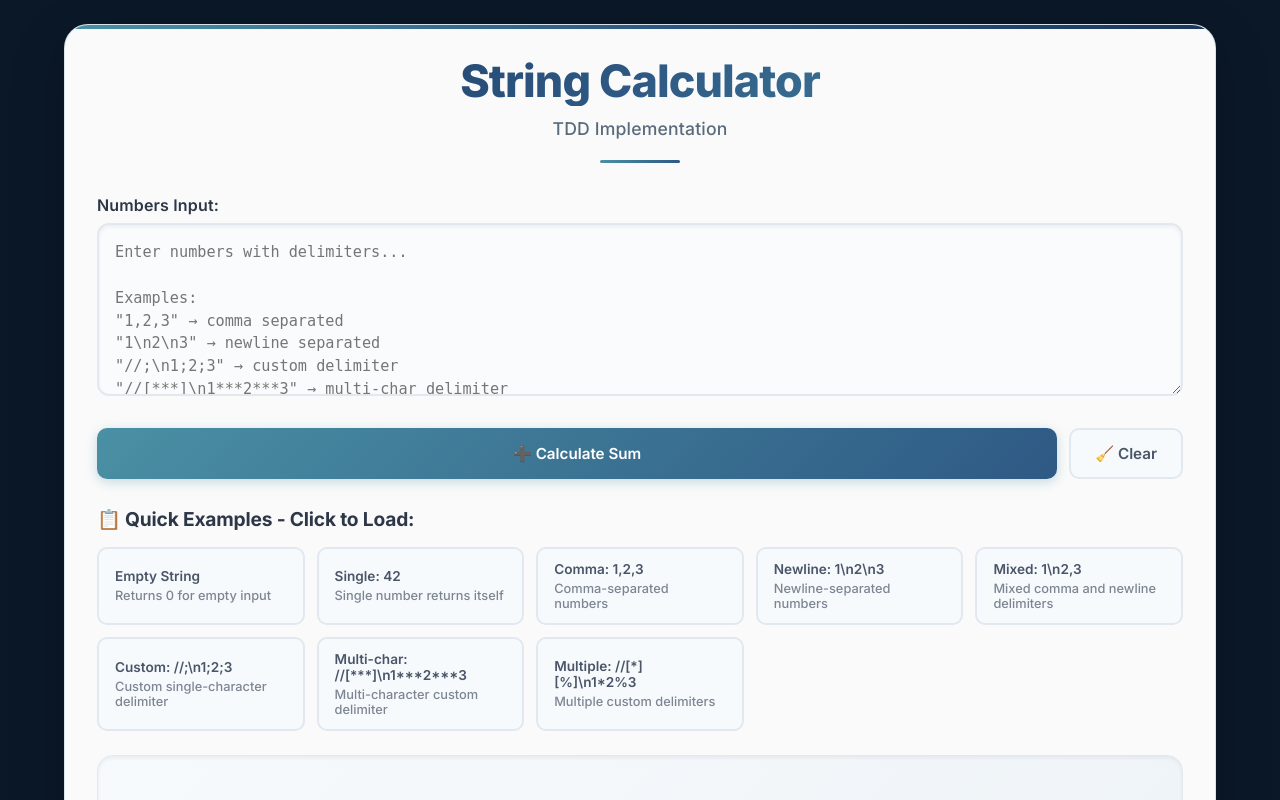
Scenario: StringCalculator Frontend › clear functionality works
Replace the text in the text box with "1,2,3" at {"x": 640, "y": 310}, box [97, 223, 1183, 396]
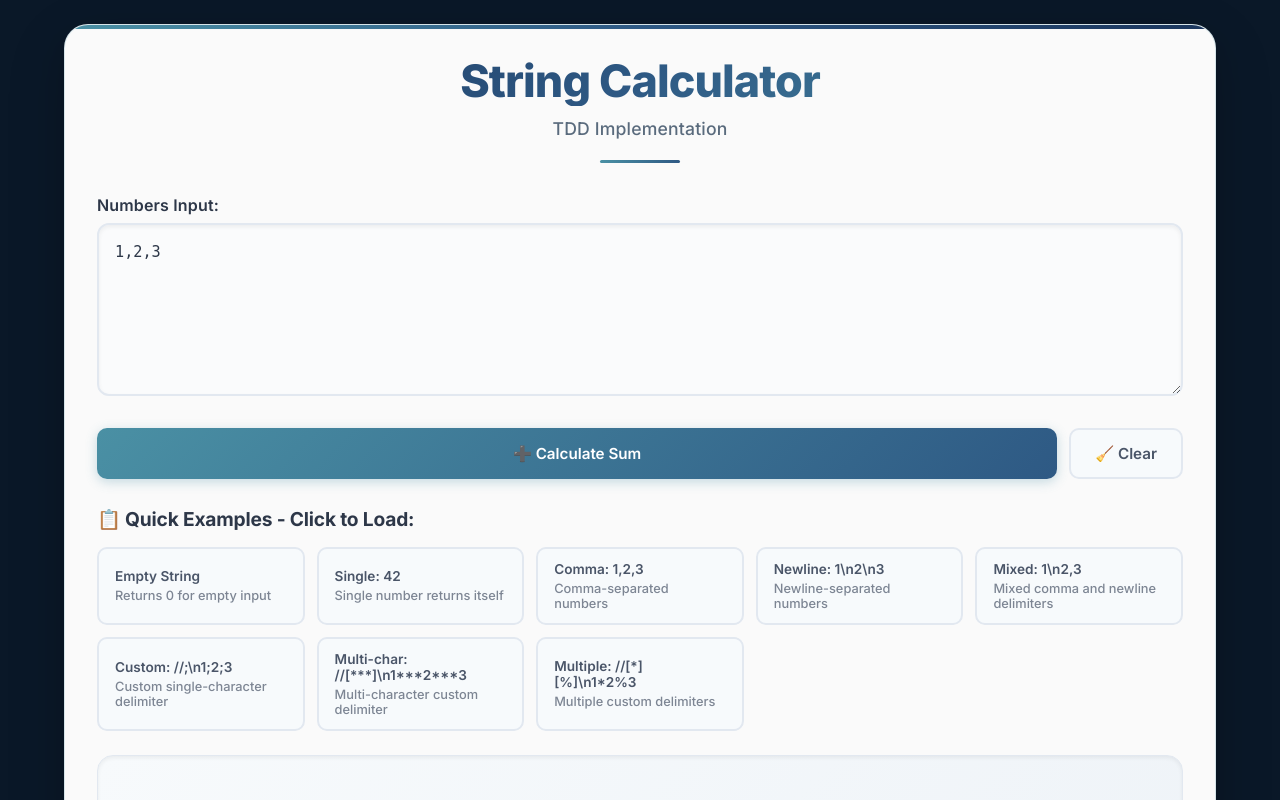
Click the button "🧹 Clear".
click(1126, 454)  # box [1069, 428, 1183, 479]
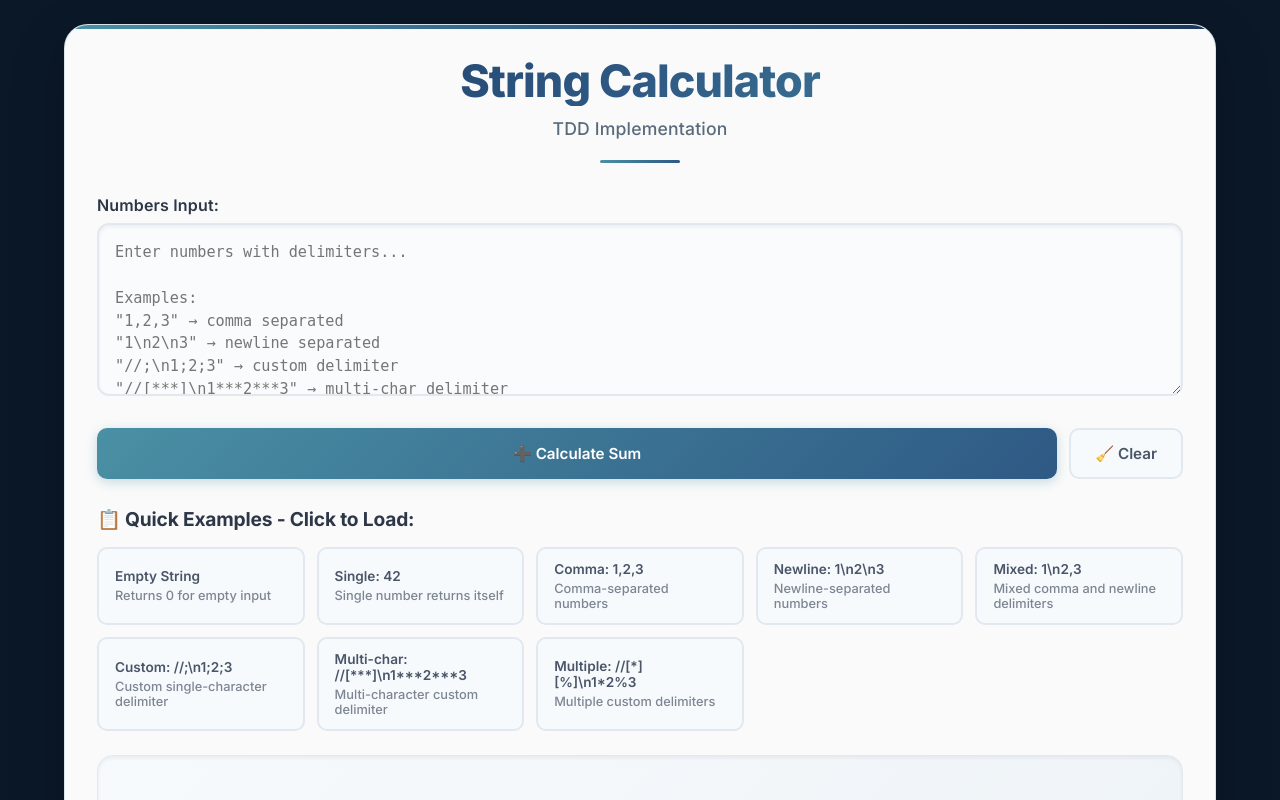
Expected: the text box is empty, [97, 223, 1183, 396]
